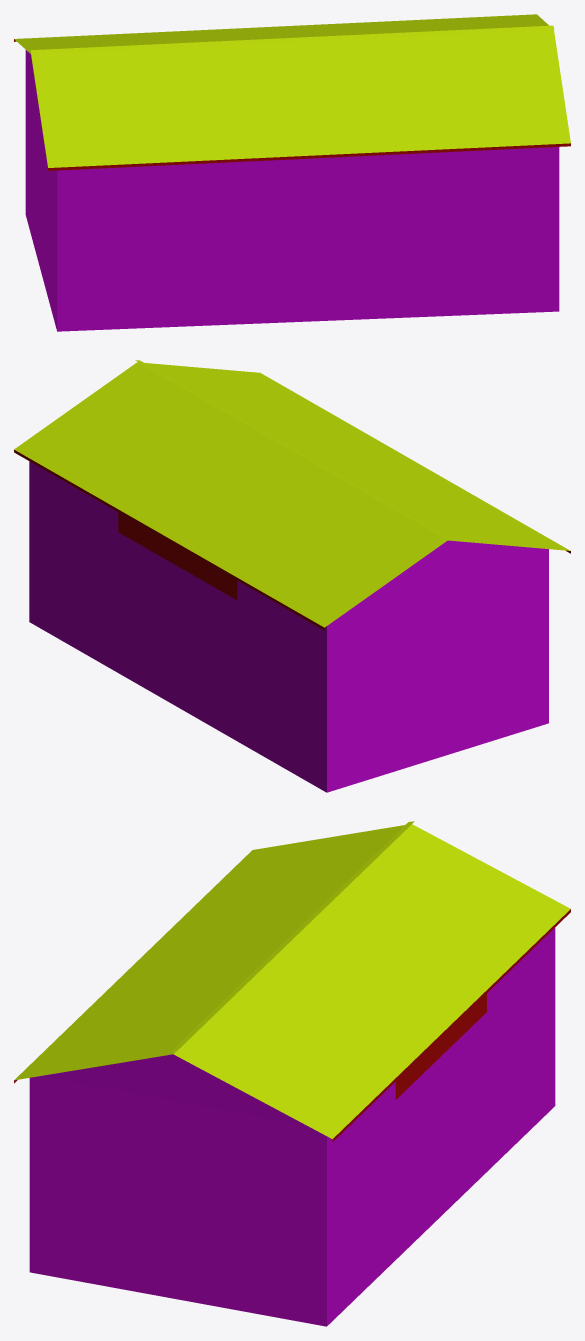
The model's file is bgj_21.glb.
The picture shows the model from 3 angles, top to bottom: view 1: azimuth 30°, elevation 25°; view 2: azimuth 150°, elevation 25°; view 3: azimuth 270°, elevation 25°; orthographic projection. The views are drawn at different scales.
Visible parts, largest first — view 1: bgj_21; view 2: bgj_21; view 3: bgj_21.
Part boxes in pixels (left/top/right/bottom): bgj_21: left=14, top=14, right=570, bottom=331; bgj_21: left=14, top=360, right=570, bottom=792; bgj_21: left=14, top=821, right=570, bottom=1326.
Bounding box in the file's own units: 22.79 × 9.31 × 18.55.
